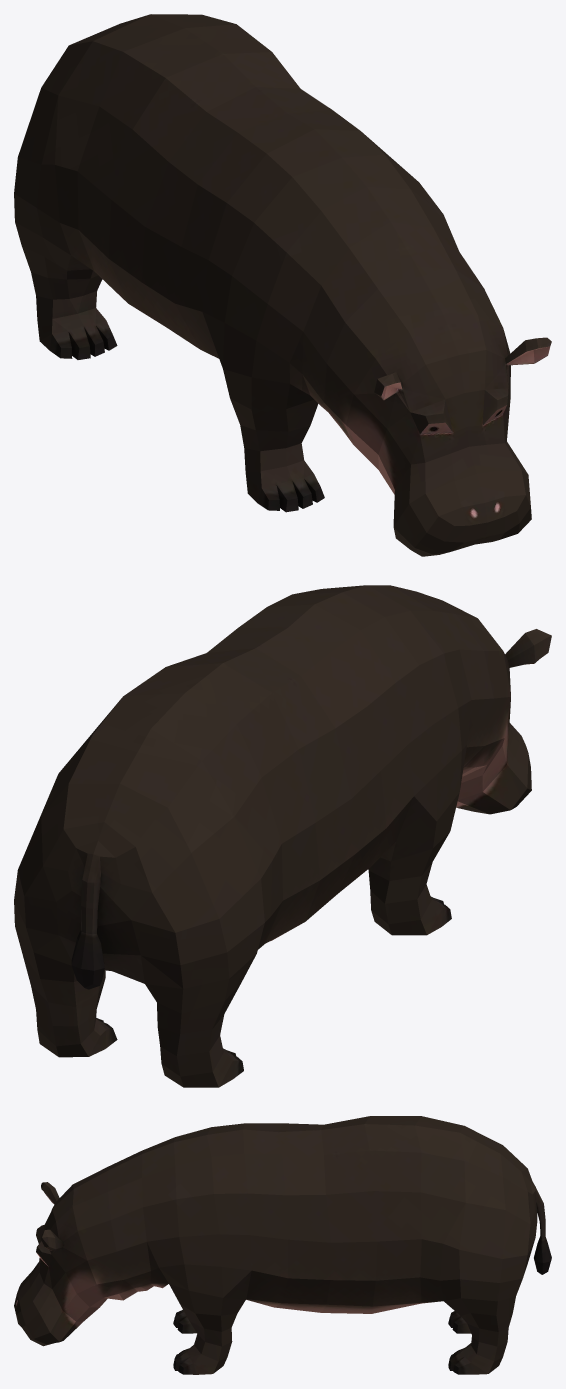
Rendered from hippo.glb.
The picture shows the model from 3 angles, top to bottom: view 1: azimuth 30°, elevation 25°; view 2: azimuth 150°, elevation 25°; view 3: azimuth 270°, elevation 25°; orthographic projection. The views are drawn at different scales.
Parts seen in each view (by area): view 1: Hippopotamus_Mesh; view 2: Hippopotamus_Mesh; view 3: Hippopotamus_Mesh.
Part boxes in pixels (x1,y1,x2,y2): Hippopotamus_Mesh: [14, 14, 551, 556]; Hippopotamus_Mesh: [14, 585, 551, 1087]; Hippopotamus_Mesh: [14, 1116, 551, 1374].
Size of the model in its own units: 5.53 by 7.75 by 17.05.
Materials: 1 (1 with a texture image).
